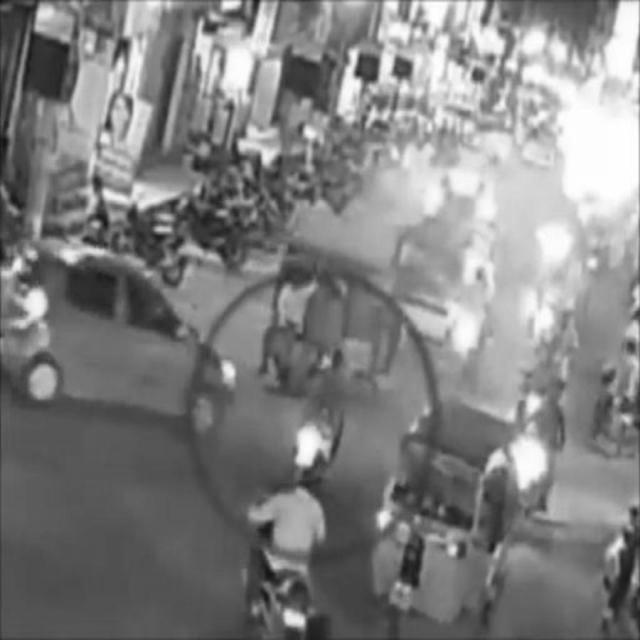vehicle: (2, 233, 236, 444), (370, 395, 518, 626), (270, 246, 404, 387), (243, 486, 335, 636), (293, 350, 348, 487)
